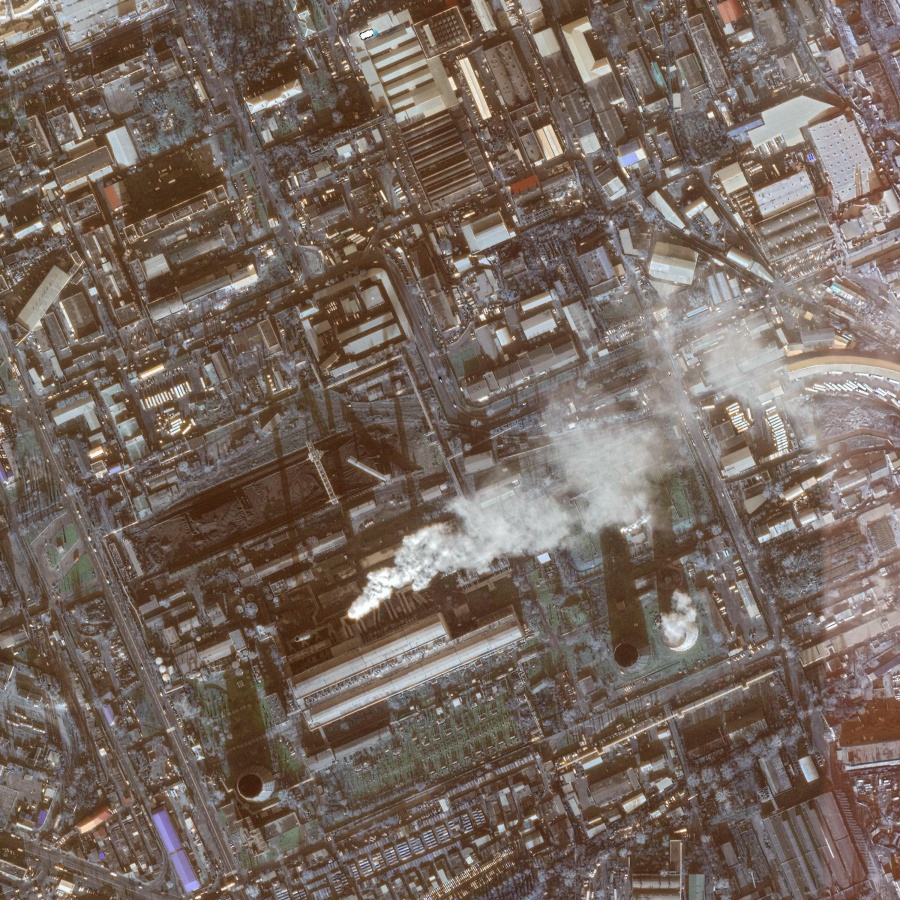PowerPlant: (208, 386, 833, 812)
